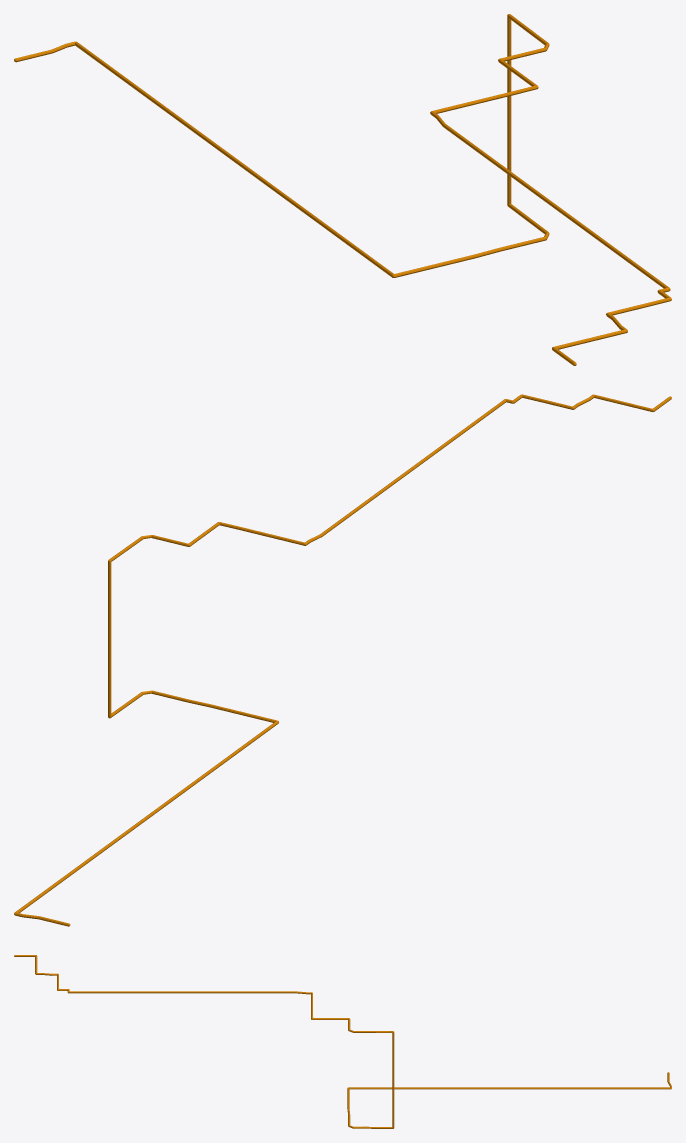
The picture shows the model from 3 angles, top to bottom: view 1: azimuth 30°, elevation 25°; view 2: azimuth 150°, elevation 25°; view 3: azimuth 270°, elevation 25°; orthographic projection. The views are drawn at different scales.
Size of the model in its own units: 1723 by 1020 by 6224.
